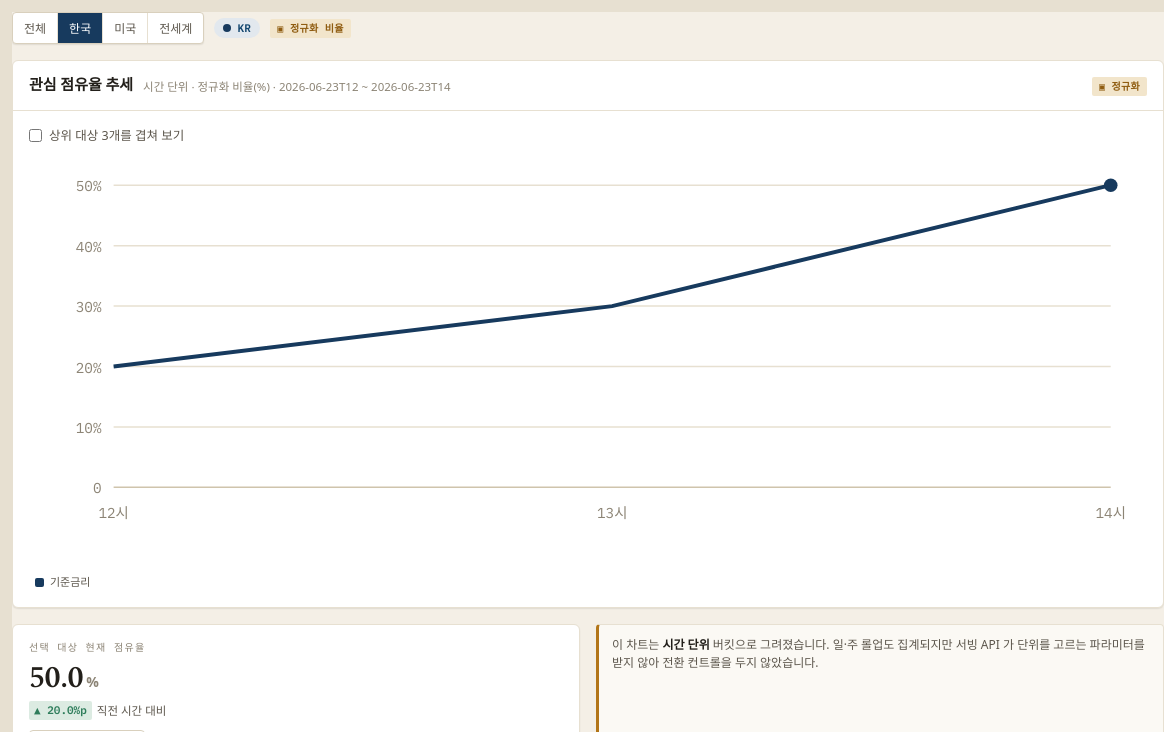
Test: Trend › offers 전체 beside the three axes, and draws it from serving's ALL axis
Click the button "전체" at (36,28), box x1=13 y1=13 x2=58 y2=43
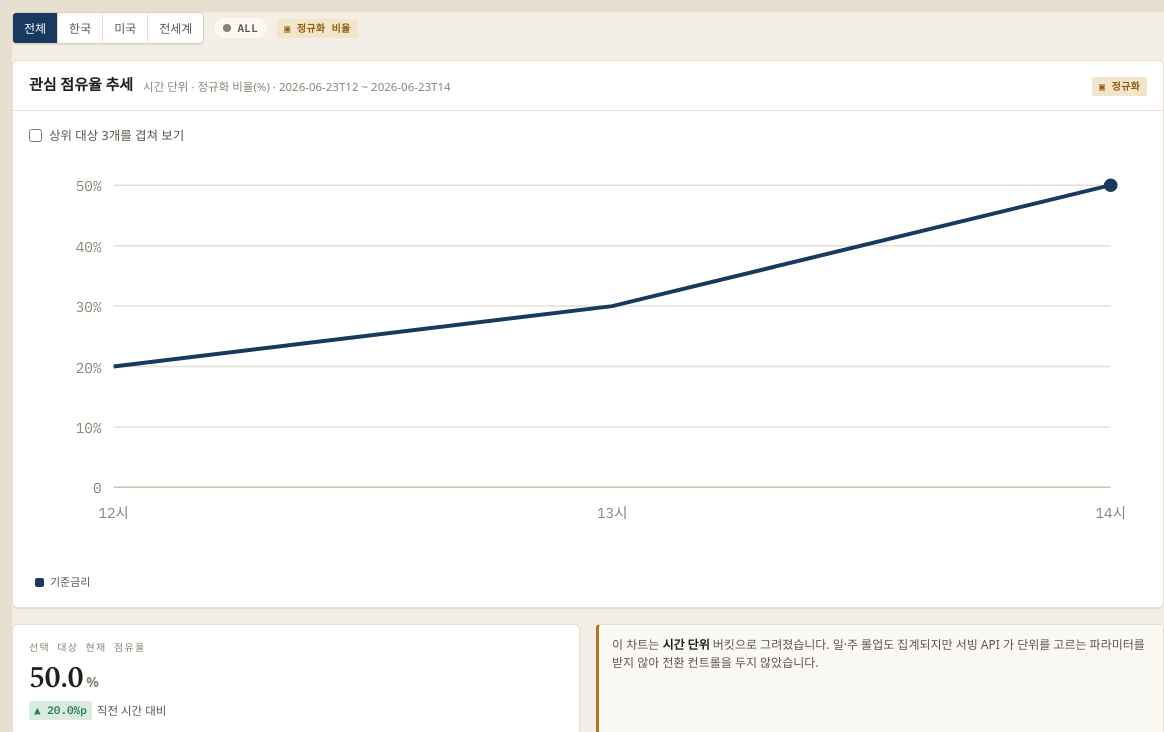
Check: the element with class "axpill" reads "ALL", box x1=237 y1=21 x2=258 y2=35
